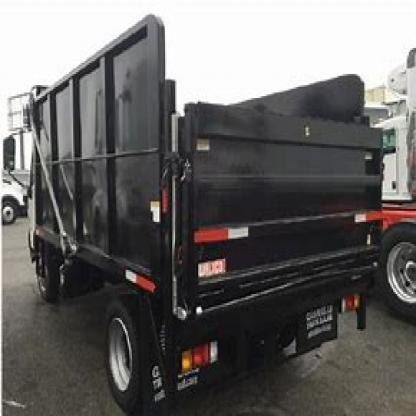dump_truck: (13, 24, 374, 398)
